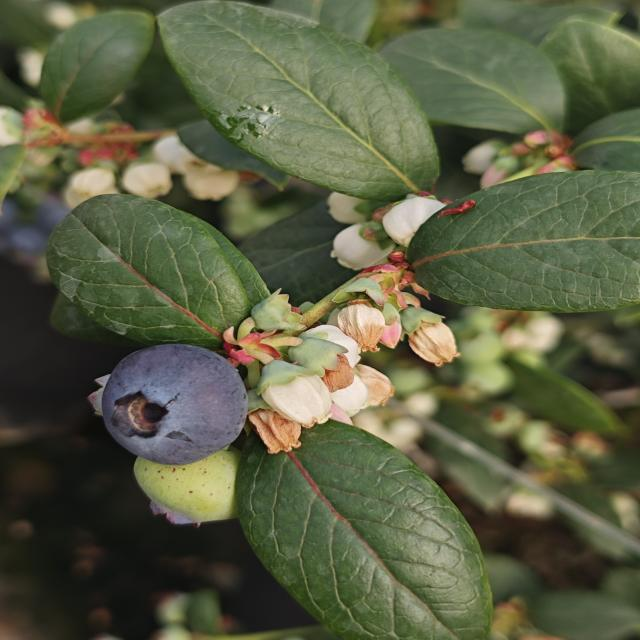ripe: (98, 342, 251, 467)
